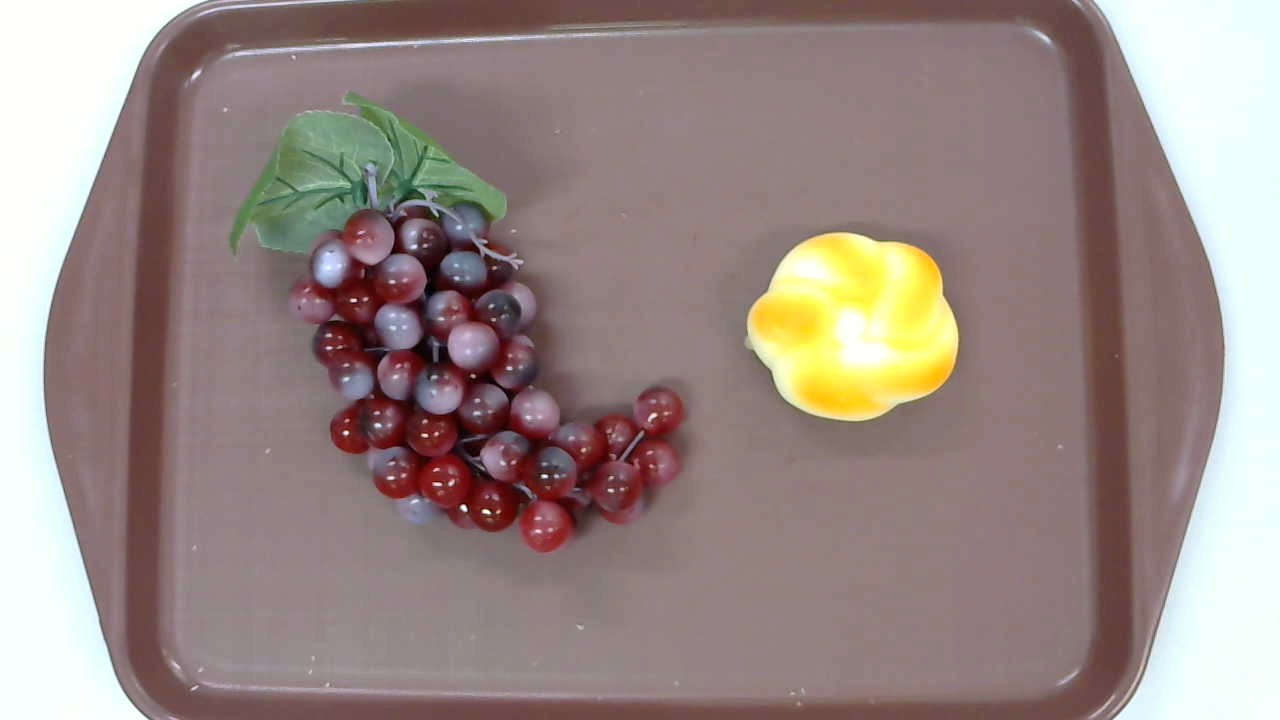grape: (229, 89, 686, 554)
twist bread: (743, 230, 960, 424)
